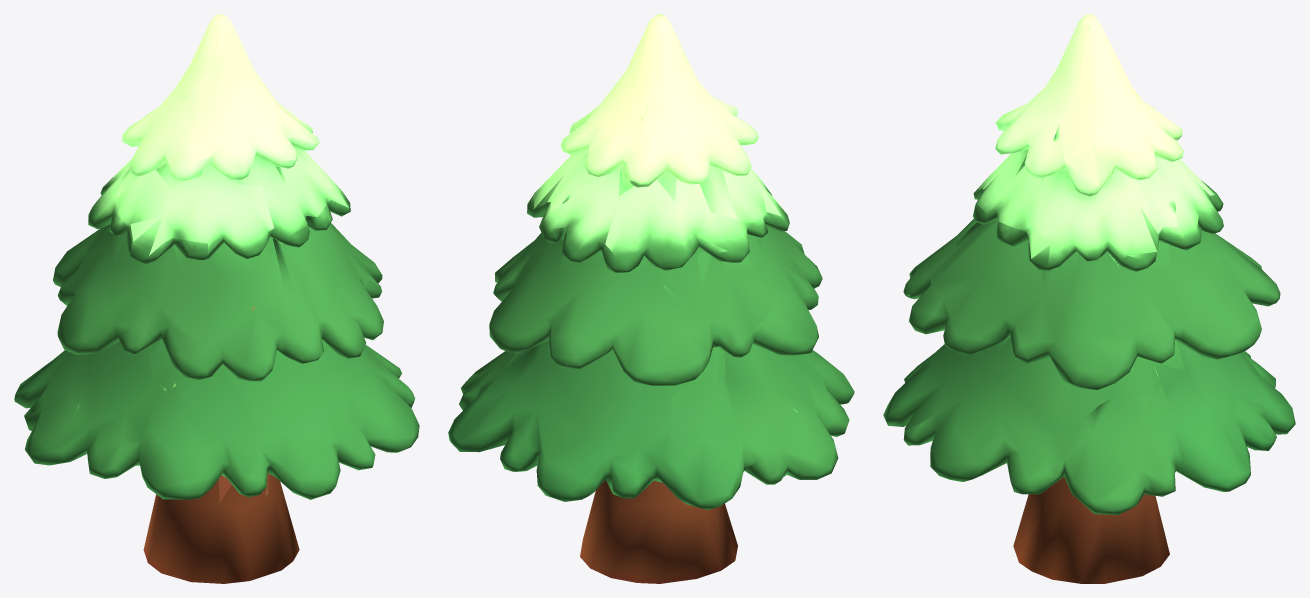
3 renders of one model, left to right at view 1: azimuth 30°, elevation 25°; view 2: azimuth 150°, elevation 25°; view 3: azimuth 270°, elevation 25°, orthographic.
Visible parts, largest first — view 1: mesh_node; view 2: mesh_node; view 3: mesh_node.
Boxes of the visible parts, <box> form: mesh_node: <box>14,14,419,583</box>; mesh_node: <box>448,14,854,583</box>; mesh_node: <box>883,14,1295,583</box>.
Bounding box in the file's own units: 0.7131 × 1 × 0.6994.
1 material, 1 textured.
